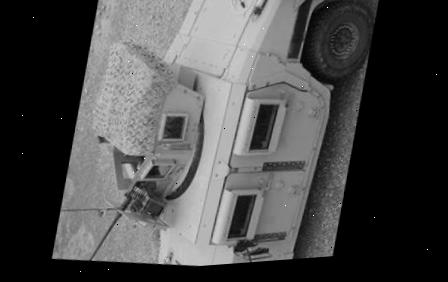armored_car: (62, 0, 381, 276)
